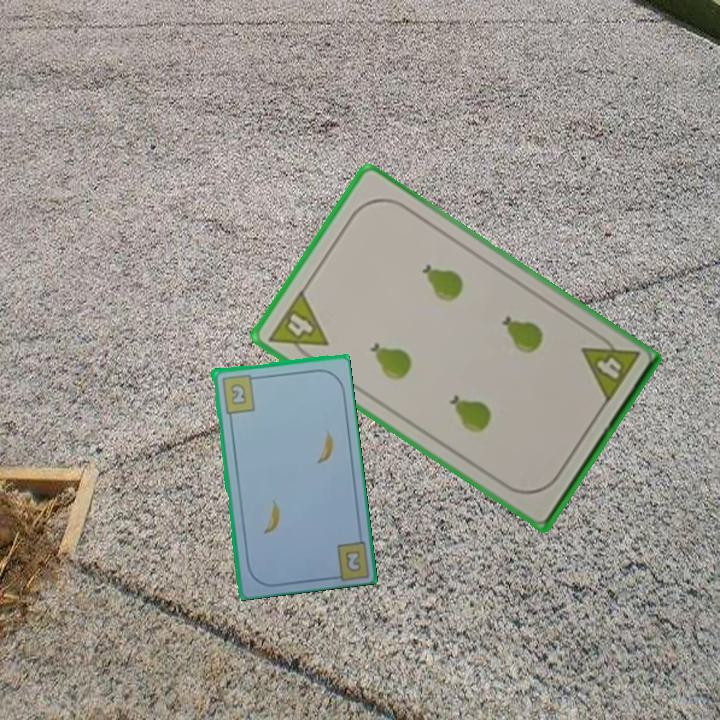2b: (218, 371, 260, 416), (341, 547, 364, 575)
4p: (265, 287, 331, 366), (578, 328, 642, 407)
